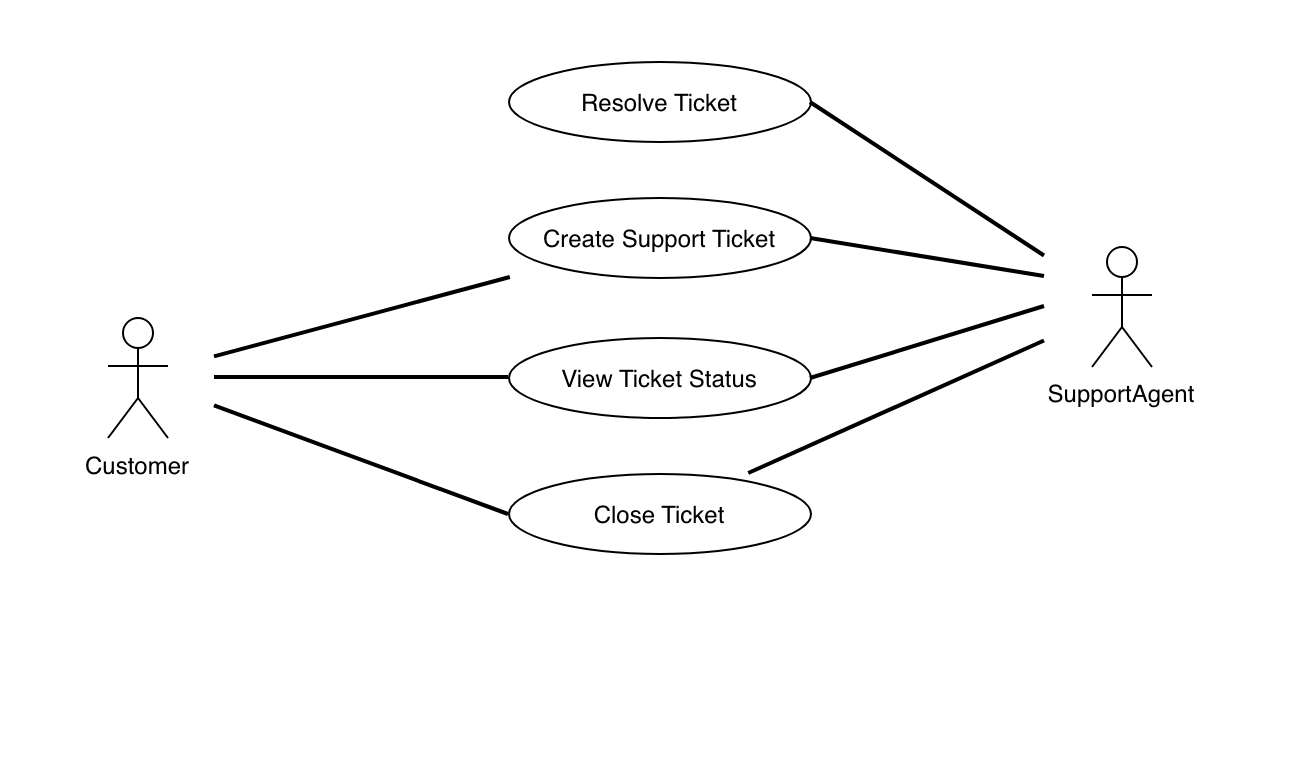actor: (104, 314, 176, 441), (1089, 243, 1156, 369)
association: (747, 336, 1044, 473), (812, 100, 1046, 261), (212, 401, 507, 515), (213, 273, 514, 358), (812, 302, 1045, 381), (812, 234, 1046, 278), (214, 362, 508, 393)
text: (534, 219, 780, 255), (581, 489, 737, 533), (553, 360, 763, 391), (580, 84, 750, 122), (1043, 376, 1205, 415), (80, 449, 201, 482)
use_case: (505, 58, 813, 146), (505, 195, 813, 282), (503, 472, 812, 558), (506, 336, 812, 422)
